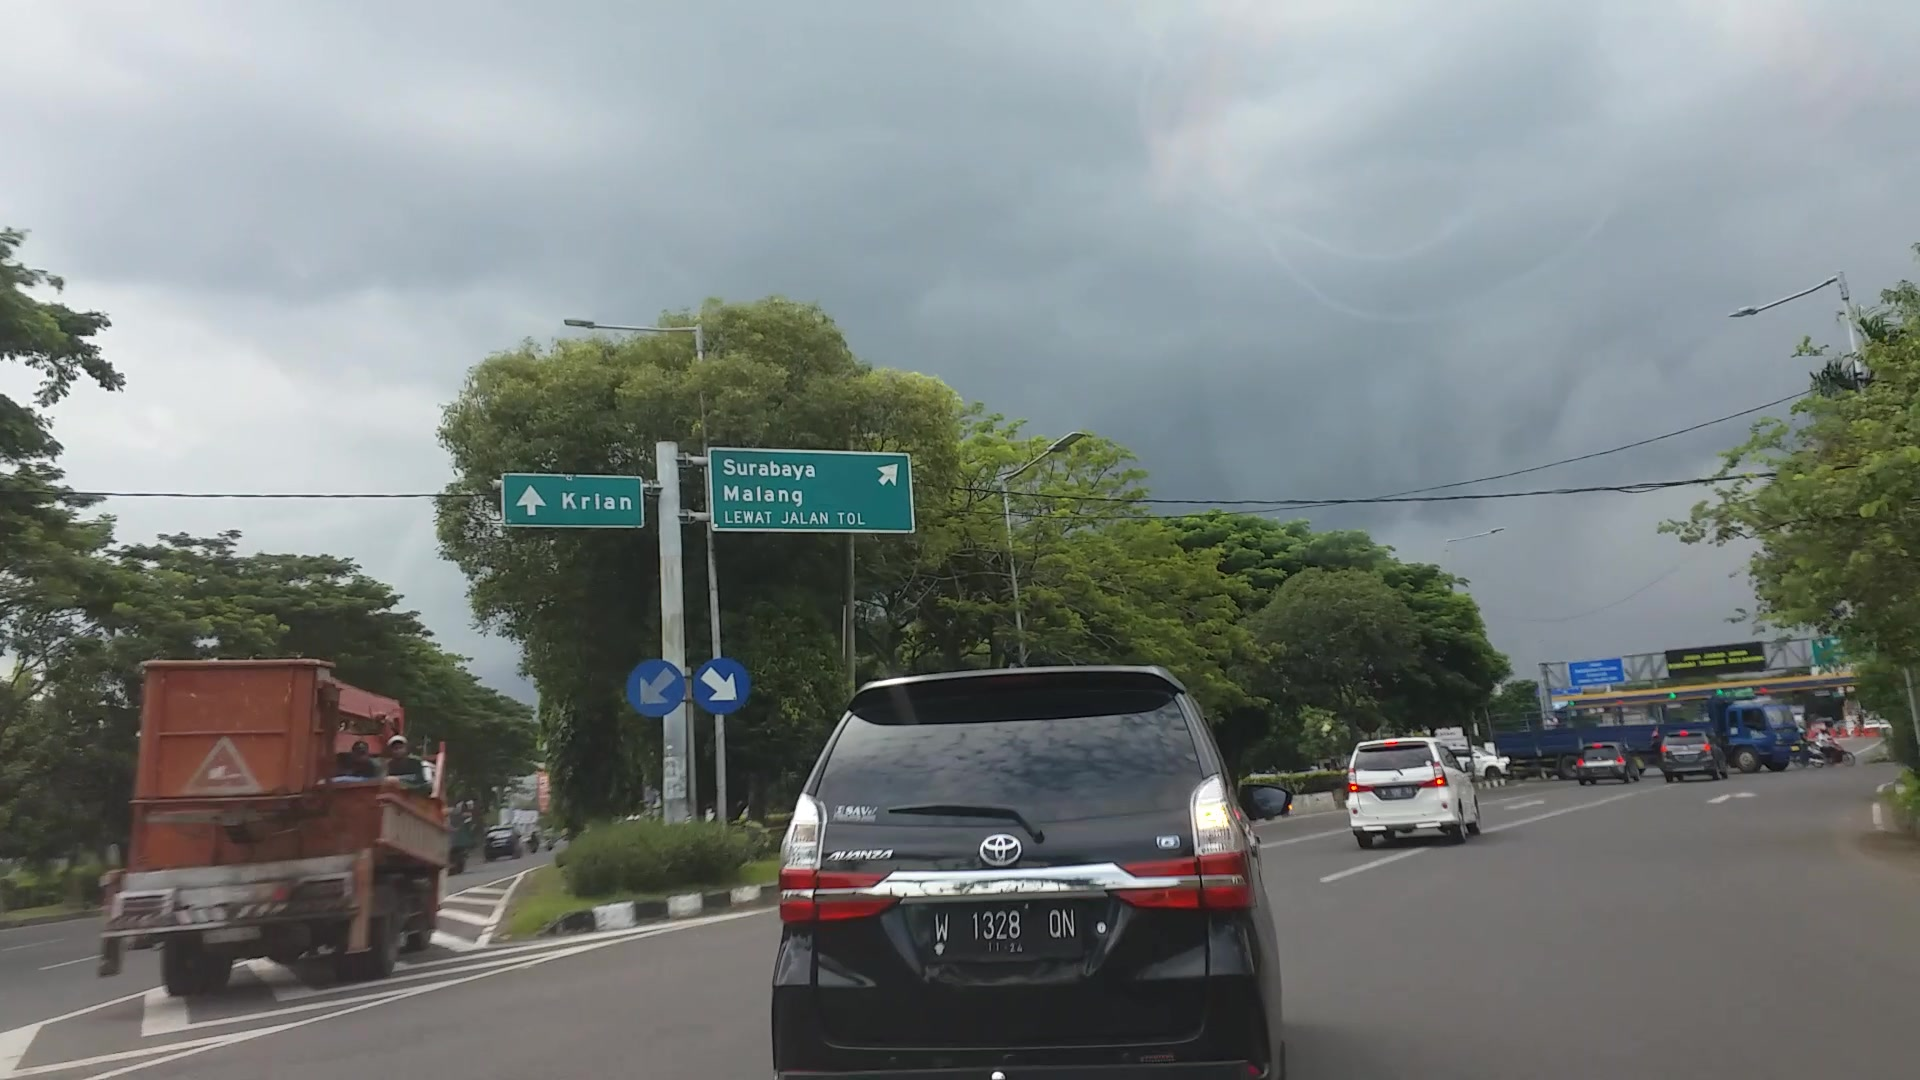plate_positive: (928, 903, 1083, 960)
